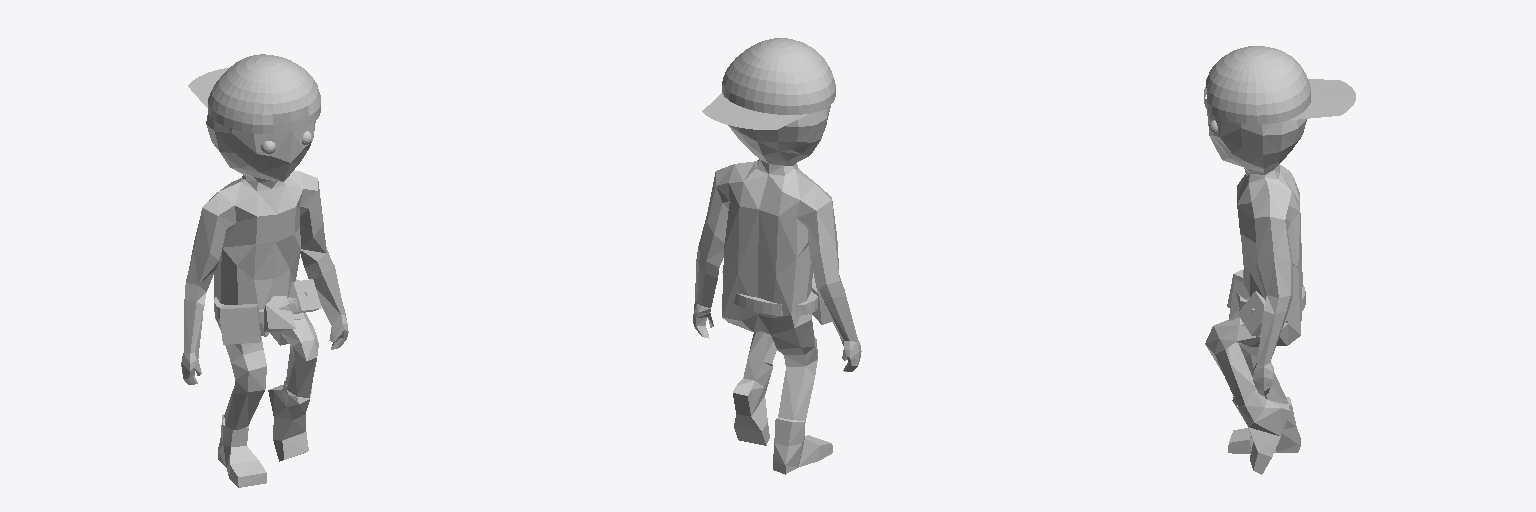
Rendered from Main_Character_Walk_5.obj.
3 views of the same model, side by side, from view 1: azimuth 30°, elevation 25°; view 2: azimuth 150°, elevation 25°; view 3: azimuth 270°, elevation 25° (orthographic).
Parts seen in each view (by area): view 1: Main_Character_Test.003_Main_Character_Test.004; view 2: Main_Character_Test.003_Main_Character_Test.004; view 3: Main_Character_Test.003_Main_Character_Test.004.
Boxes of the visible parts, x1=… form: Main_Character_Test.003_Main_Character_Test.004: x1=181, y1=54, x2=348, y2=487; Main_Character_Test.003_Main_Character_Test.004: x1=693, y1=38, x2=861, y2=474; Main_Character_Test.003_Main_Character_Test.004: x1=1204, y1=46, x2=1355, y2=474.
Bounding box in the file's own units: 1.63 × 3.87 × 1.31.